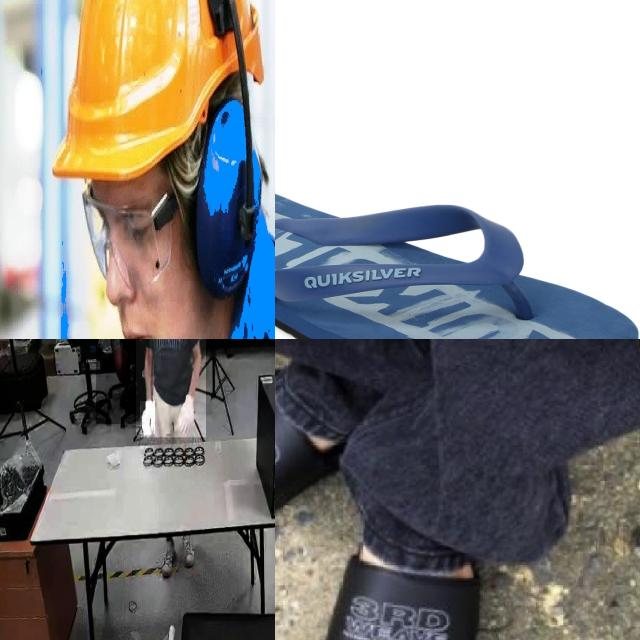Ear-protection: (207, 1, 272, 331)
Sandals: (275, 178, 640, 339), (302, 495, 492, 640), (275, 343, 356, 559)
hand_glove: (170, 394, 198, 434), (140, 401, 156, 435)
head_helmet: (42, 0, 275, 192), (70, 178, 200, 292)
person: (135, 339, 206, 438), (96, 339, 149, 425)
shoes: (160, 536, 178, 576)
